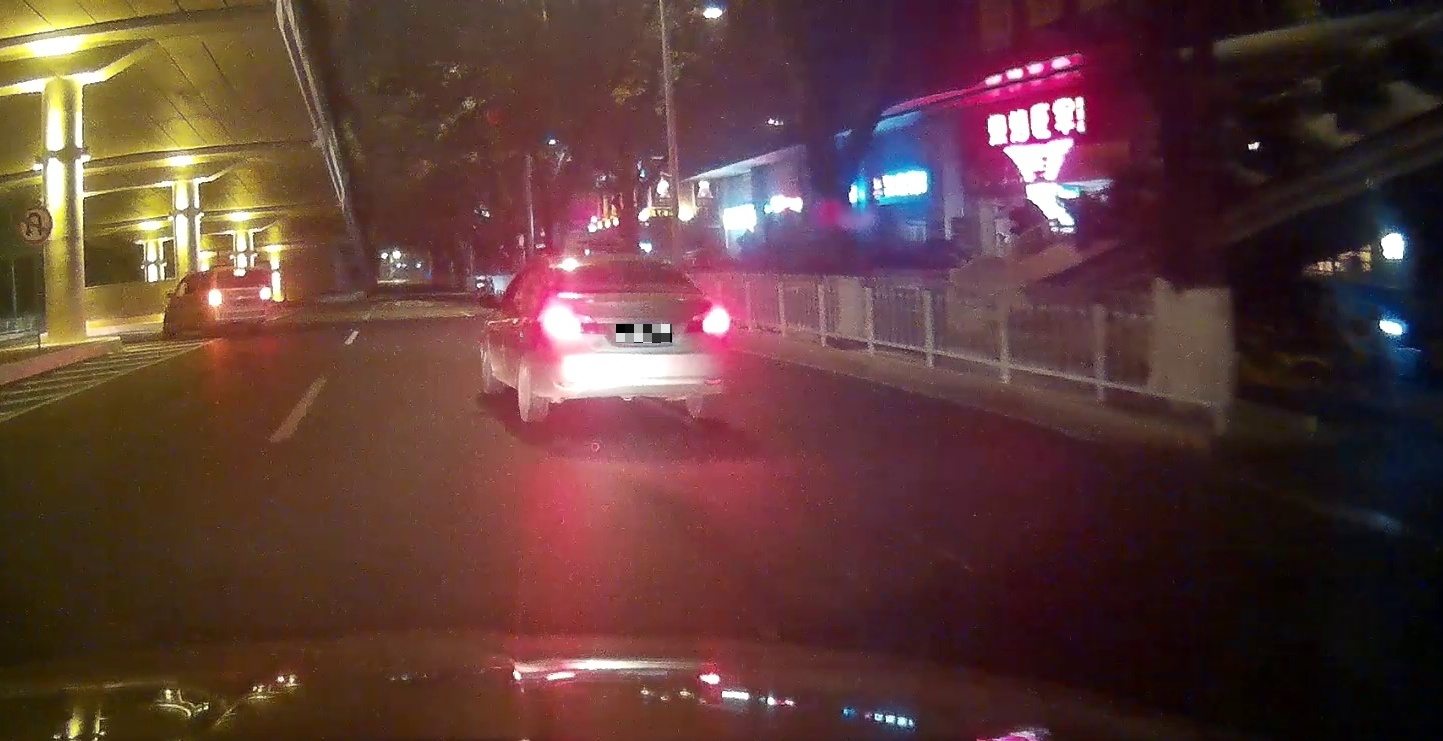L_light: (545, 312, 598, 334), (212, 290, 221, 303)
R_light: (685, 308, 729, 333), (262, 288, 270, 298)
T_light: (623, 263, 645, 268), (234, 270, 246, 276)
night-no: (537, 254, 731, 422), (209, 266, 271, 333)
plate_1: (616, 324, 672, 343)
